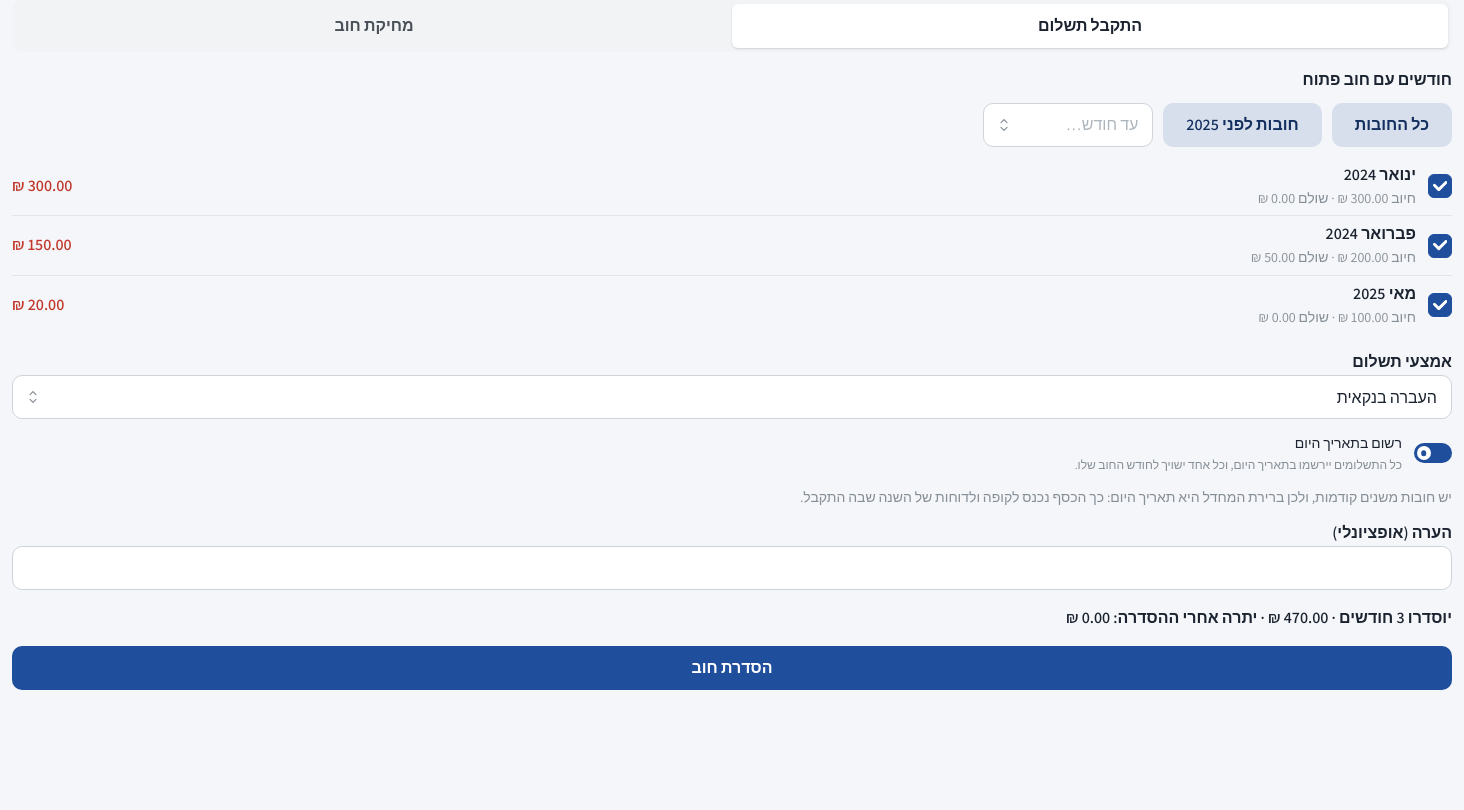
Test case: SettleDebtForm › nothing selected: the confirm is disabled
The image size is (1464, 810).
Click the checkbox labelled "ינואר 2024 חיוב 300.00 ₪ · שולם 0.00 ₪ 300.00 ₪".
click(1440, 186)  # box [1428, 174, 1452, 198]
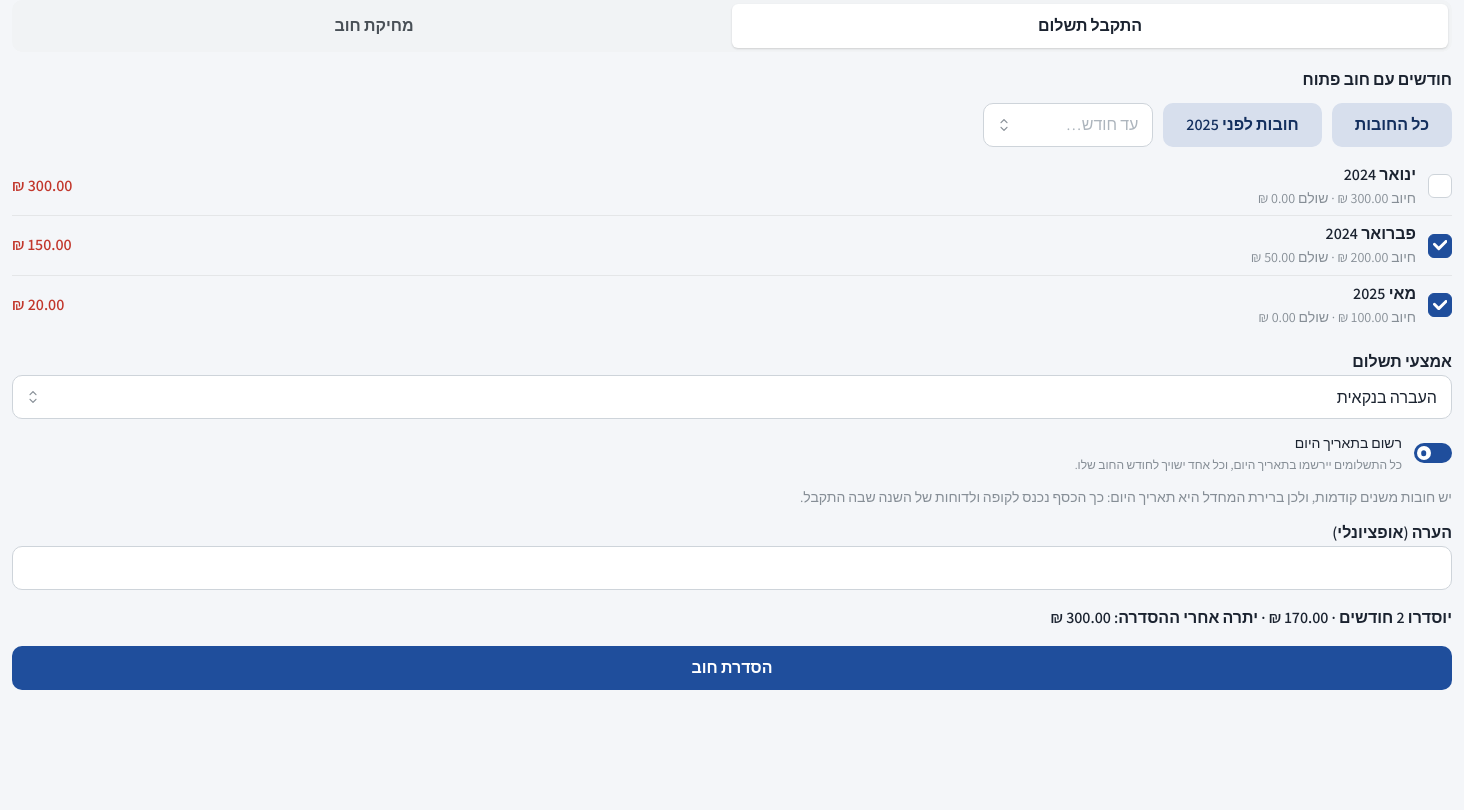
Click the checkbox labelled "פברואר 2024 חיוב 200.00 ₪ · שולם 50.00 ₪ 150.00 ₪".
click(1440, 246)  # box [1428, 234, 1452, 258]
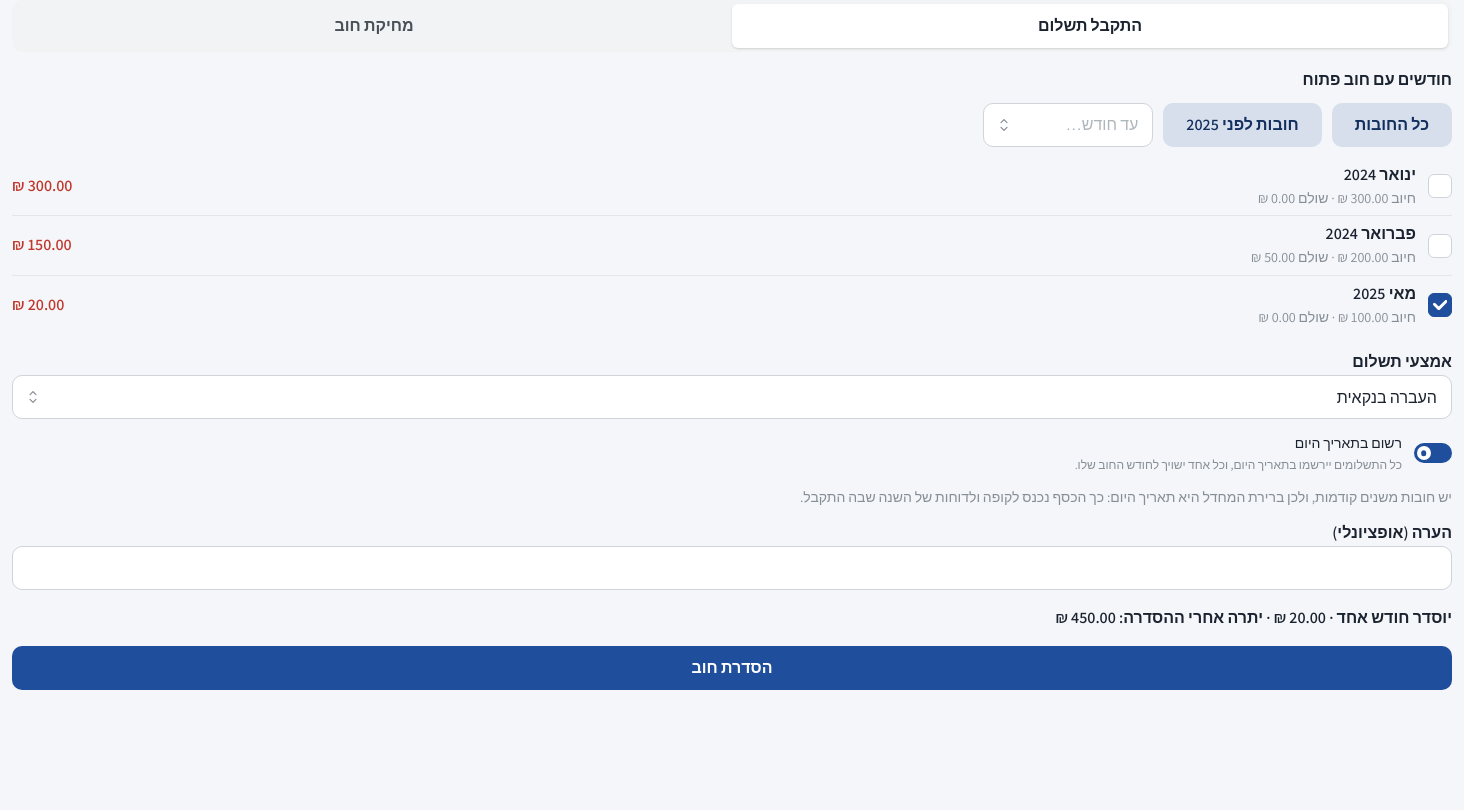
Click the checkbox labelled "מאי 2025 חיוב 100.00 ₪ · שולם 0.00 ₪ 20.00 ₪".
click(1440, 305)  # box [1428, 293, 1452, 317]
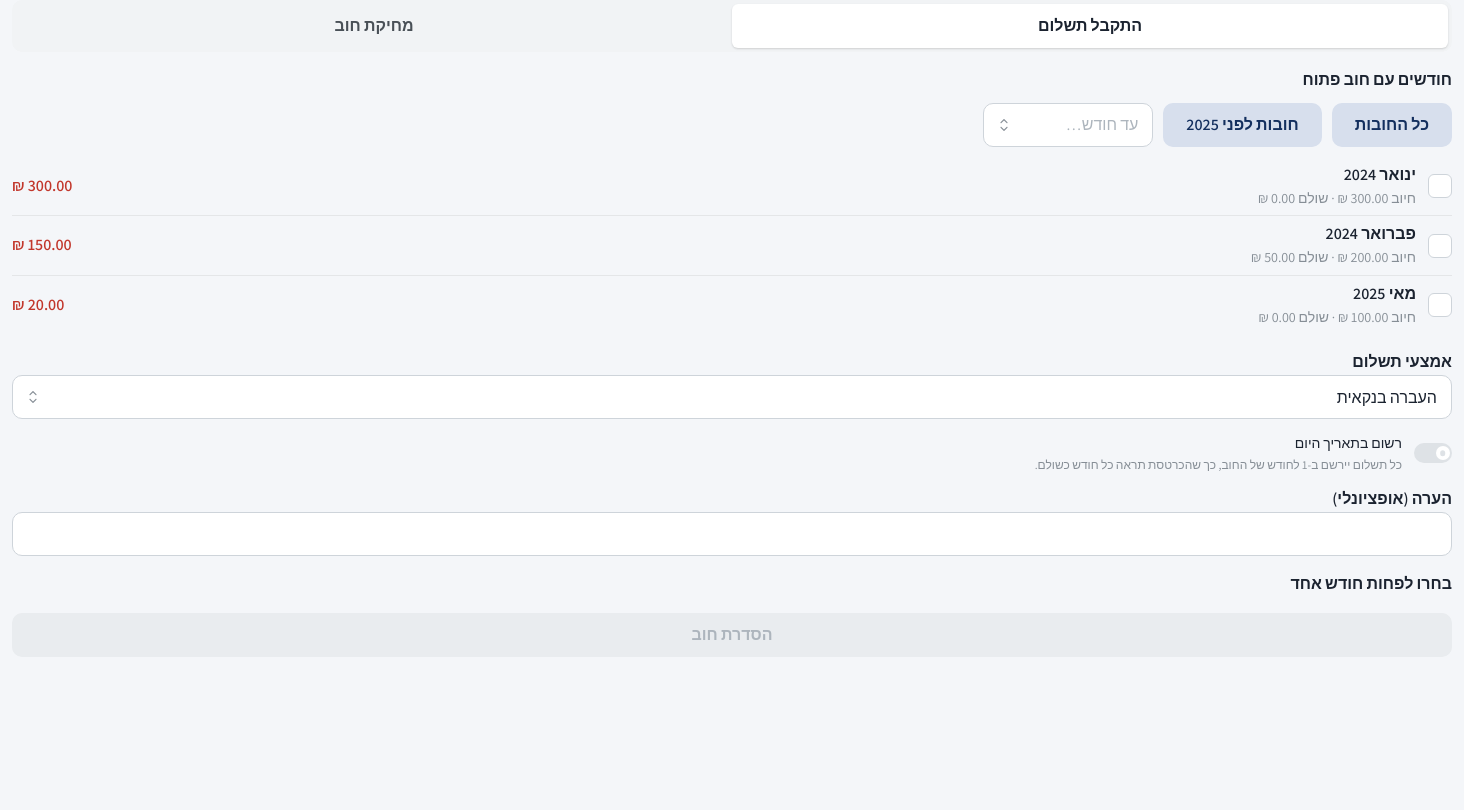
Expected: the text "בחרו לפחות חודש אחד" is shown, [1290, 573, 1452, 594]
Expected: the button "הסדרת חוב" is disabled, [12, 613, 1452, 657]
